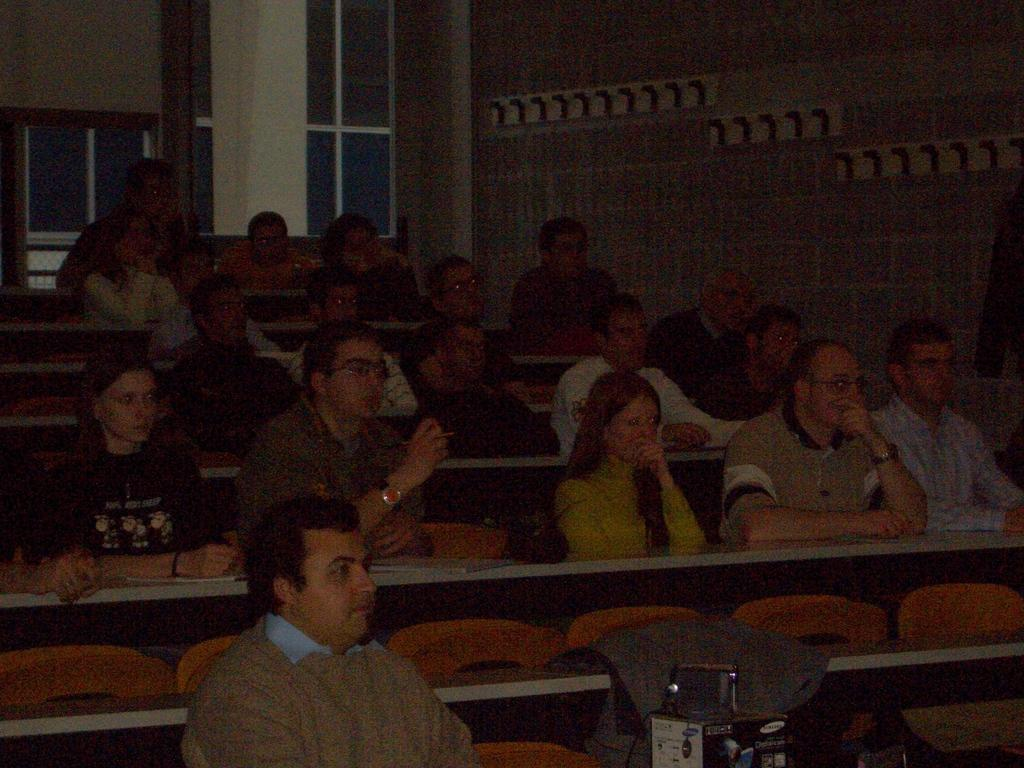Sem Máscara: (291, 525, 376, 635), (322, 337, 387, 412), (96, 368, 156, 439), (807, 349, 862, 425), (902, 336, 958, 405), (610, 391, 658, 461), (435, 321, 486, 376), (606, 304, 649, 368), (438, 260, 484, 316), (710, 270, 750, 329), (757, 318, 800, 368), (206, 284, 246, 336), (340, 227, 380, 273), (141, 167, 177, 218), (548, 231, 586, 279), (248, 220, 286, 266), (174, 249, 212, 294), (316, 283, 359, 320), (118, 214, 151, 262)
